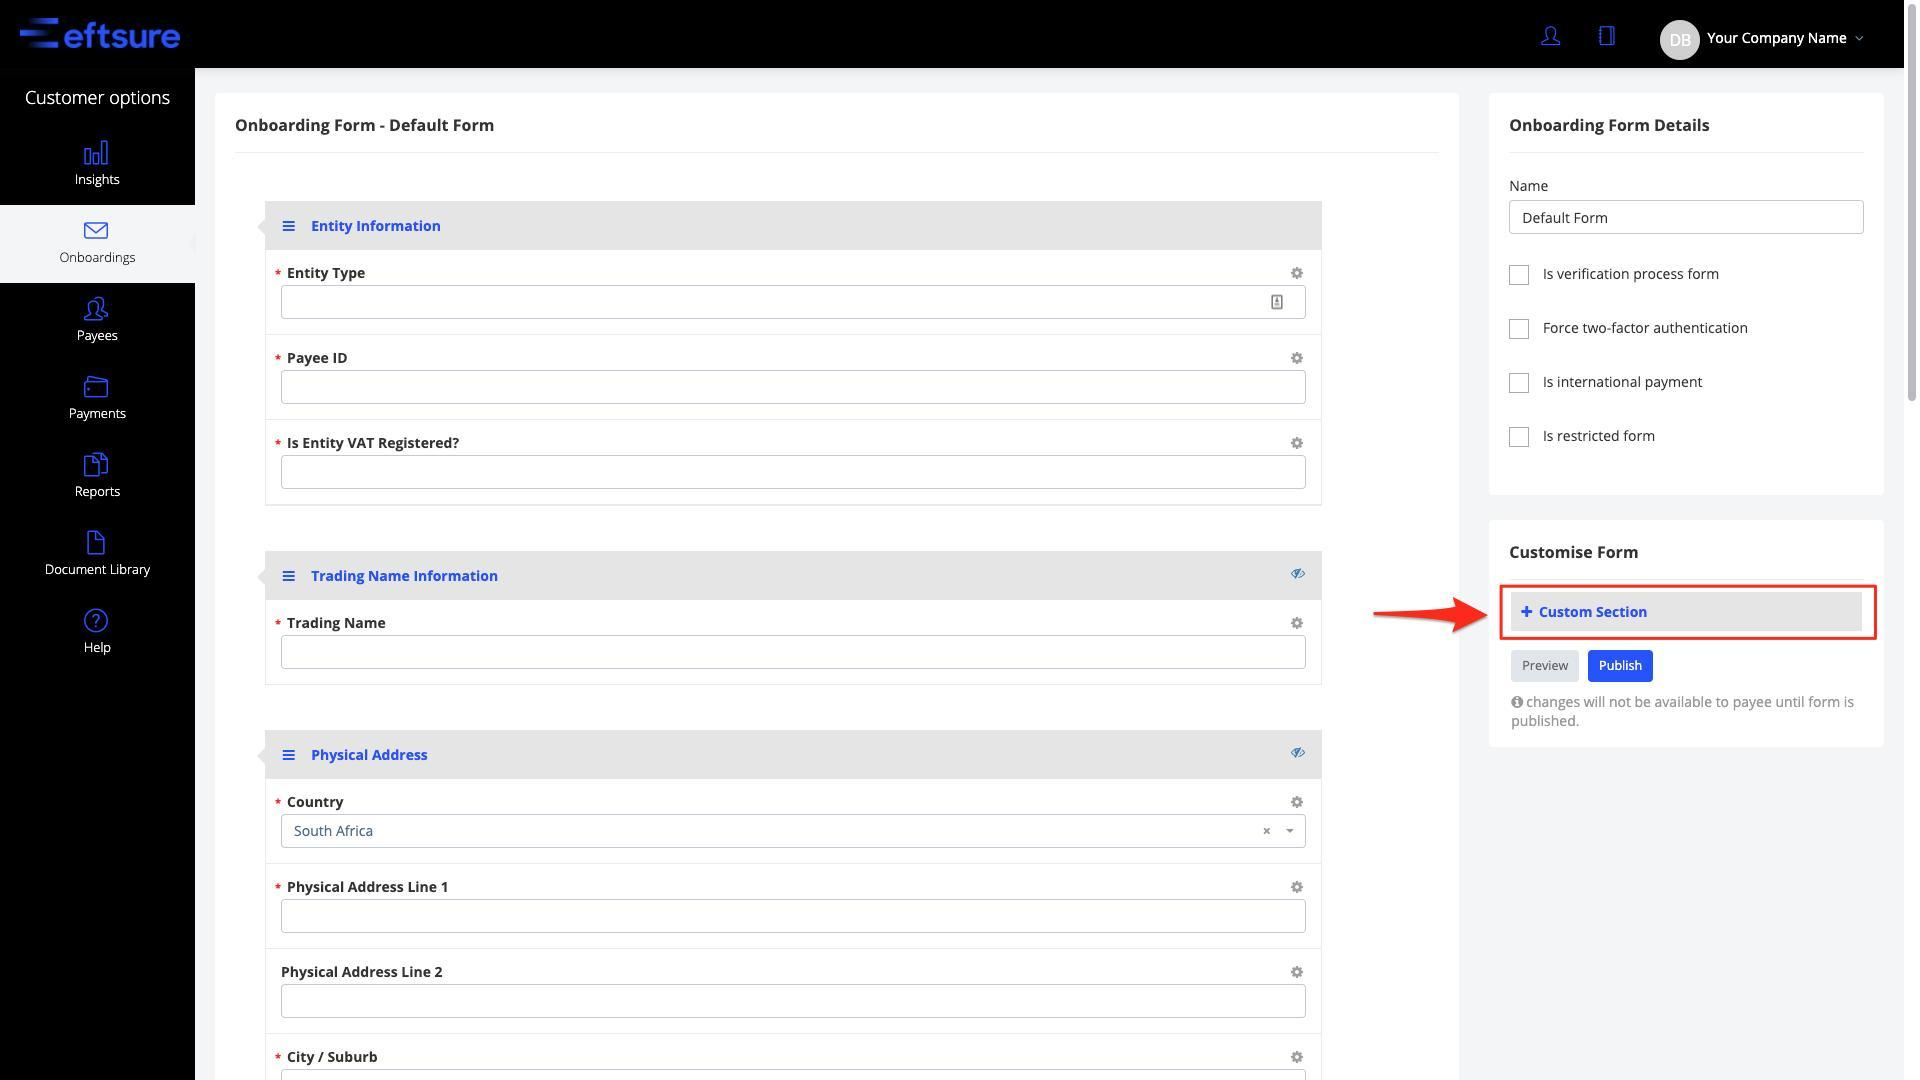button: (1513, 593, 1863, 632), (1589, 650, 1654, 683), (1514, 651, 1578, 683)
checkbox: (1510, 375, 1531, 396), (1509, 319, 1531, 339), (1510, 266, 1530, 287), (1509, 429, 1530, 448)
dropdown: (282, 818, 1308, 851)
icon: (75, 135, 117, 169), (1590, 18, 1629, 54), (1534, 21, 1569, 55), (82, 289, 111, 323), (80, 450, 112, 480), (80, 375, 112, 402), (84, 529, 112, 560), (82, 219, 113, 245), (84, 609, 113, 636), (277, 564, 302, 589), (1288, 742, 1308, 764), (281, 745, 299, 767), (1288, 562, 1307, 584), (280, 218, 301, 236), (1290, 791, 1307, 811), (1288, 436, 1304, 454), (1290, 615, 1305, 632), (1290, 268, 1308, 282), (1292, 880, 1307, 898), (1290, 1051, 1308, 1065), (1290, 352, 1305, 367), (1294, 965, 1305, 978), (1854, 32, 1867, 44)
input: (282, 982, 1307, 1018), (282, 454, 1305, 489), (280, 637, 1308, 670), (281, 373, 1307, 405), (284, 902, 1307, 934), (285, 287, 1308, 316), (1513, 203, 1865, 237)
label: (225, 109, 508, 138), (269, 427, 471, 459), (1503, 111, 1713, 140), (1536, 258, 1729, 287), (310, 566, 501, 591), (1544, 320, 1760, 342), (1539, 371, 1706, 396), (305, 212, 455, 240), (272, 963, 450, 984), (22, 88, 181, 111), (268, 880, 456, 898), (1509, 543, 1646, 568), (266, 1040, 386, 1067), (1540, 426, 1669, 450), (1708, 30, 1847, 51), (42, 560, 157, 584), (272, 611, 394, 632), (313, 746, 431, 767), (273, 261, 376, 285), (268, 342, 359, 367), (61, 247, 140, 272), (270, 793, 351, 815), (65, 401, 135, 426), (66, 167, 131, 193), (1503, 174, 1559, 194), (69, 484, 128, 502), (69, 330, 123, 349), (79, 642, 117, 659)
